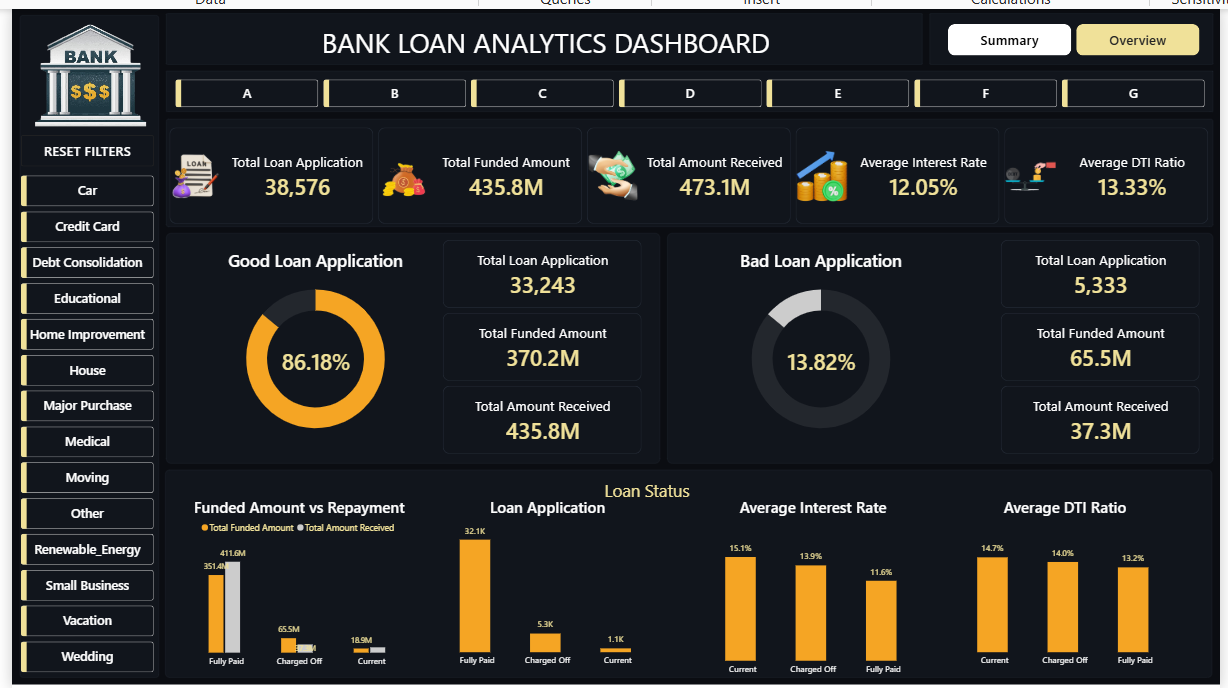

The dashboard page shown, as its layout file describes it:
{"tool":"powerbi","page":{"name":"Summary","canvas":[1920,1080],"ordinal":0},"visuals":[{"type":"cardVisual","fields":{"Data":["financial_loan.Total Loan Application","financial_loan.Total Funded Amount","financial_loan.Total Amount Received","financial_loan.Average Interest Rate","financial_loan.Average DTI Rate"]},"box":[250,187.8,1653.3,153.3],"z":0},{"type":"donutChart","title":"Good Loan Application","fields":{"Category":["financial_loan.Good_vs_Bad_Loan"],"Y":["financial_loan.Total Loan Application"]},"box":[272.9,368.6,421.4,342.9],"z":1000},{"type":"donutChart","title":"Bad Loan Application","fields":{"Category":["financial_loan.Good_vs_Bad_Loan"],"Y":["financial_loan.Total Loan Application"]},"box":[1077.1,368.6,421.4,342.9],"z":2000},{"type":"cardVisual","fields":{"Data":["financial_loan.Good Loan %"]},"box":[394.3,514.3,180,88.6],"z":3000},{"type":"cardVisual","fields":{"Data":["financial_loan.Bad Loan %"]},"box":[1197.1,514.3,180,88.6],"z":4000},{"type":"cardVisual","fields":{"Data":["financial_loan.Total Loan Application","financial_loan.Total Funded Amount","financial_loan.Total Amount Received"],"Rows":["financial_loan.Good_vs_Bad_Loan"]},"box":[651.4,368.6,350,342.9],"z":5000},{"type":"cardVisual","fields":{"Data":["financial_loan.Total Loan Application","financial_loan.Total Funded Amount","financial_loan.Total Amount Received"],"Rows":["financial_loan.Good_vs_Bad_Loan"]},"box":[1538.6,368.6,350,342.9],"z":6000},{"type":"clusteredColumnChart","title":"Funded Amount vs Repayment","fields":{"Category":["financial_loan.LOAN_STATUS"],"Y":["financial_loan.Total Funded Amount","financial_loan.Total Amount Received"]},"box":[250,761.4,412.9,305.7],"z":7000},{"type":"clusteredColumnChart","title":"Loan Application","fields":{"Category":["financial_loan.LOAN_STATUS"],"Y":["financial_loan.Total Loan Application"]},"box":[651.2,761.2,401.2,305],"z":8000},{"type":"textbox","box":[941.2,747.5,222.5,112.5],"z":9000},{"type":"clusteredColumnChart","title":"Average Interest Rate","fields":{"Category":["financial_loan.LOAN_STATUS"],"Y":["financial_loan.Average Interest Rate"]},"box":[1072.9,761.4,401.4,318.6],"z":10000},{"type":"clusteredColumnChart","title":"Average DTI Ratio","fields":{"Category":["financial_loan.LOAN_STATUS"],"Y":["financial_loan.Average DTI Ratio"]},"box":[1473.8,761.2,401.2,305],"z":11000},{"type":"image","box":[0,0,250,210],"z":12000},{"type":"advancedSlicerVisual","fields":{"Values":["financial_loan.PURPOSE"]},"box":[14.3,264.3,211.4,802.9],"z":13000},{"type":"advancedSlicerVisual","fields":{"Values":["financial_loan.GRADE"]},"box":[260,113,1643,44],"z":14000},{"type":"actionButton","box":[14.3,200,211.4,50],"z":15000},{"type":"textbox","box":[250,24.3,1197.1,68.6],"z":16000},{"type":"pageNavigator","box":[1488.6,24.3,400,50],"z":17000}]}

Visuals, with their boxes on the page's 1920x1080 design canvas (x1, y1, x2, y2). These are canvas units, not pixel positions in the 1228x688 screenshot, which may show the page scaled, cropped or inside an application window:
cardVisual - financial_loan.Total Loan Application x financial_loan.Total Funded Amount: <box>250,188,1903,341</box>
"Good Loan Application" donutChart: <box>273,369,694,712</box>
"Bad Loan Application" donutChart: <box>1077,369,1498,712</box>
cardVisual - financial_loan.Good Loan %: <box>394,514,574,603</box>
cardVisual - financial_loan.Bad Loan %: <box>1197,514,1377,603</box>
cardVisual - financial_loan.Total Loan Application x financial_loan.Total Funded Amount: <box>651,369,1001,712</box>
cardVisual - financial_loan.Total Loan Application x financial_loan.Total Funded Amount: <box>1539,369,1889,712</box>
"Funded Amount vs Repayment" clusteredColumnChart: <box>250,761,663,1067</box>
"Loan Application" clusteredColumnChart: <box>651,761,1052,1066</box>
textbox: <box>941,748,1164,860</box>
"Average Interest Rate" clusteredColumnChart: <box>1073,761,1474,1080</box>
"Average DTI Ratio" clusteredColumnChart: <box>1474,761,1875,1066</box>
image: <box>0,0,250,210</box>
advancedSlicerVisual - financial_loan.PURPOSE: <box>14,264,226,1067</box>
advancedSlicerVisual - financial_loan.GRADE: <box>260,113,1903,157</box>
actionButton: <box>14,200,226,250</box>
textbox: <box>250,24,1447,93</box>
pageNavigator: <box>1489,24,1889,74</box>
